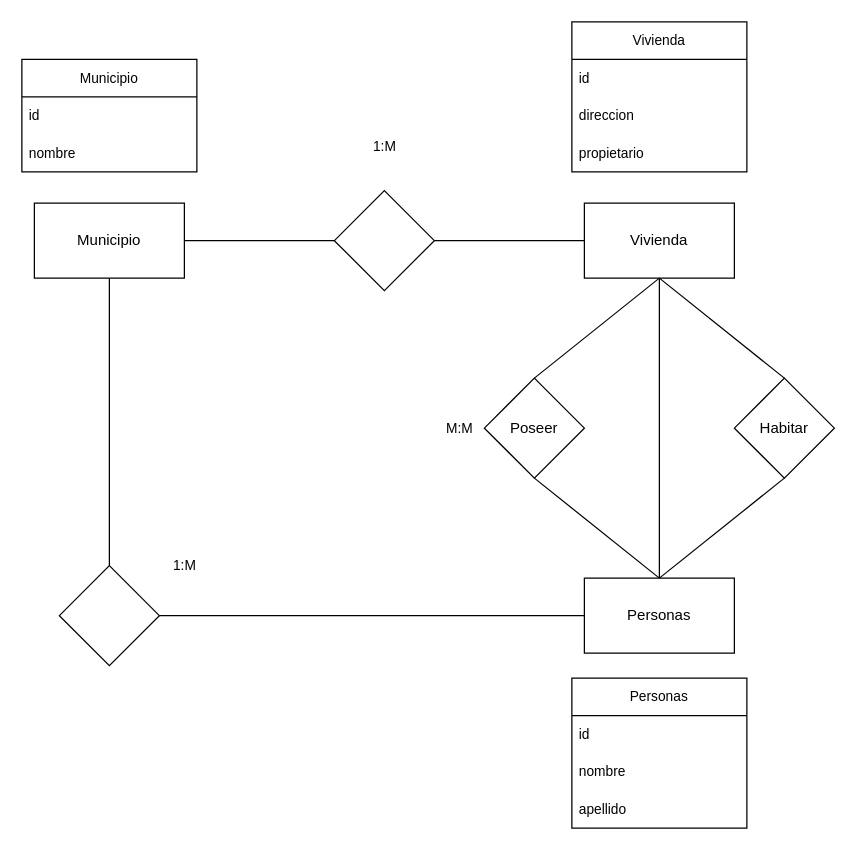
Image size: 856x850. Some labels were removed from this diagram. The shapes that lost their labels are listed below. From the top down, each one's centre as x and y in pixels, then its label:
At point 383,240: "Pertenece".
At point 108,615: "Residir".
